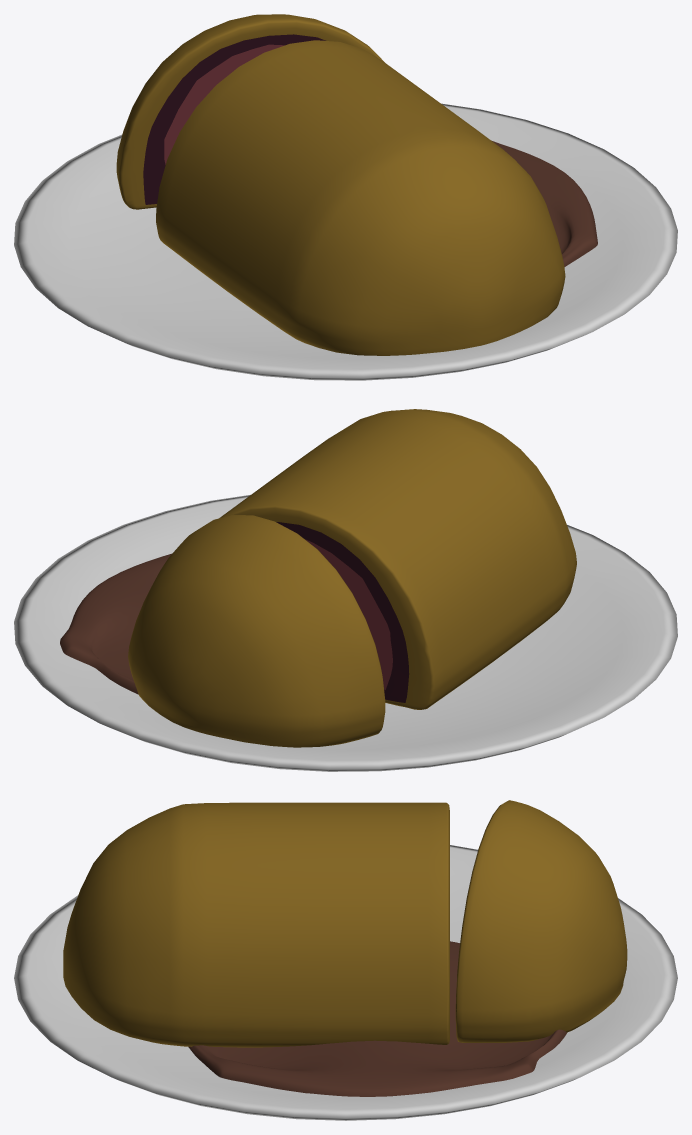
The model's file is beef_wellington.glb.
3 renders of one model, top to bottom at view 1: azimuth 30°, elevation 25°; view 2: azimuth 150°, elevation 25°; view 3: azimuth 270°, elevation 25°, orthographic.
Visible parts, largest first — view 1: beef_Wellington_low3, plate9, beef_Wellington_low2, curry; view 2: beef_Wellington_low3, plate9, beef_Wellington_low2, curry; view 3: beef_Wellington_low3, plate9, beef_Wellington_low2, curry.
Part boxes in pixels (x1,y1,x2,y2): beef_Wellington_low3: [156, 40, 565, 355]; plate9: [14, 103, 677, 380]; beef_Wellington_low2: [116, 14, 384, 209]; curry: [491, 140, 597, 267]; beef_Wellington_low3: [219, 409, 576, 709]; plate9: [14, 494, 677, 771]; beef_Wellington_low2: [128, 514, 385, 747]; curry: [60, 553, 171, 694]; beef_Wellington_low3: [63, 802, 449, 1047]; plate9: [14, 845, 677, 1120]; beef_Wellington_low2: [455, 800, 627, 1042]; curry: [188, 941, 567, 1096].
Bounding box in the file's own units: 1.82 × 0.5735 × 1.82.
